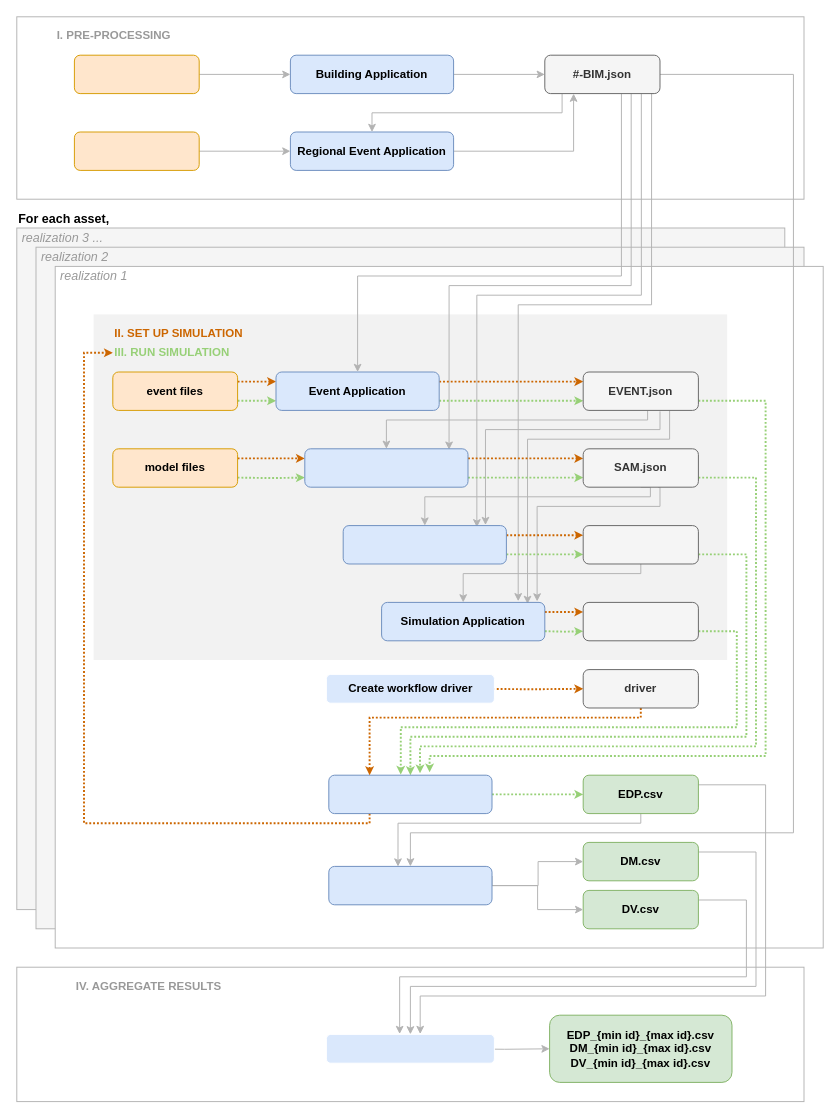
Some shapes in this 840 by 1118 pixel diagram are drawn without their labels. The centre of each missing label's shape, as x and y in pixels:
"building source file" goes at (x=136, y=74).
"Collect results" goes at (x=409, y=1048).
"DL Application" goes at (x=410, y=885).
"EDP Application" goes at (x=424, y=544).
"EDP.json" goes at (x=640, y=544).
"event grid file" goes at (x=136, y=150).
"Modeling Application" goes at (x=386, y=467).
"SIM.json" goes at (x=640, y=621).
"UQ Application" goes at (x=410, y=794).
